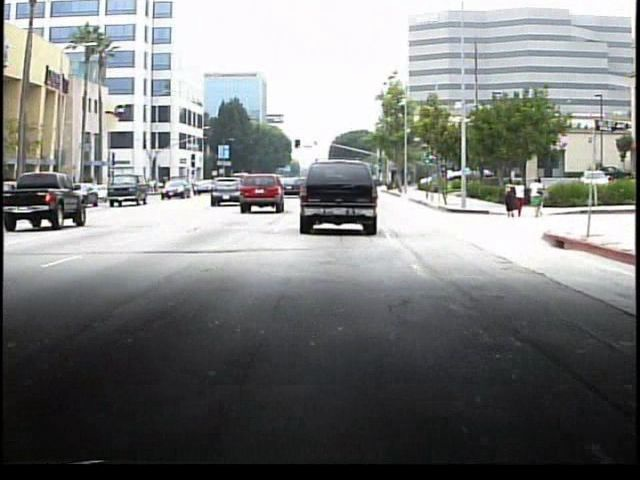person: (528, 177, 545, 220), (501, 177, 515, 217), (513, 179, 527, 219)
